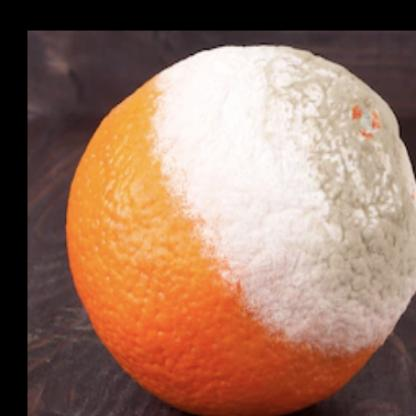rotten: (66, 45, 416, 416)
